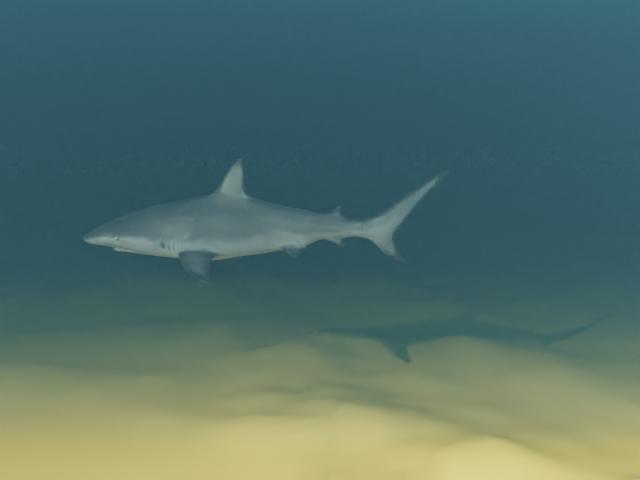Carribean Shark.001: (82, 158, 449, 283)
